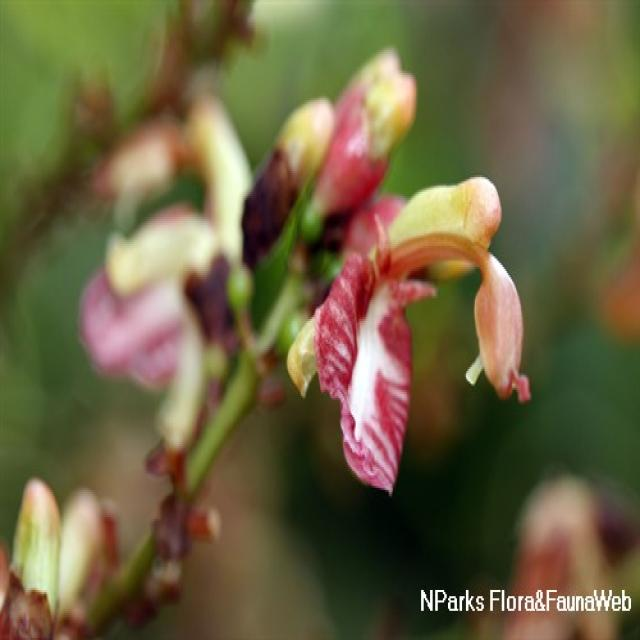Aquatic-Ginger: (286, 175, 532, 494)
